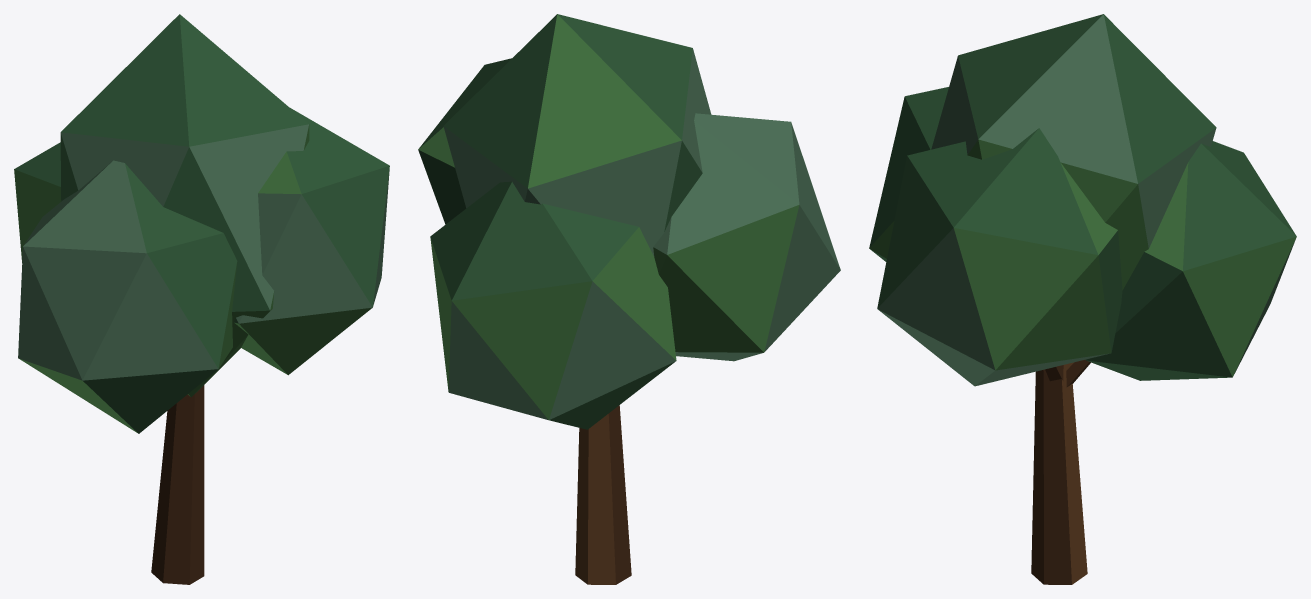
File: SM_Tree_Sage.glb
The picture shows the model from 3 angles, left to right: view 1: azimuth 30°, elevation 25°; view 2: azimuth 150°, elevation 25°; view 3: azimuth 270°, elevation 25°; orthographic projection. The views are drawn at different scales.
Visible parts, largest first — view 1: SM_Tree_Sage; view 2: SM_Tree_Sage; view 3: SM_Tree_Sage.
Boxes of the visible parts, x1,y1,x2,y2 form: SM_Tree_Sage: (14, 14, 389, 584); SM_Tree_Sage: (418, 14, 840, 584); SM_Tree_Sage: (869, 14, 1296, 584).
Bounding box in the file's own units: 4.46 × 6.71 × 4.54.
Materials: 1 (1 with a texture image).
